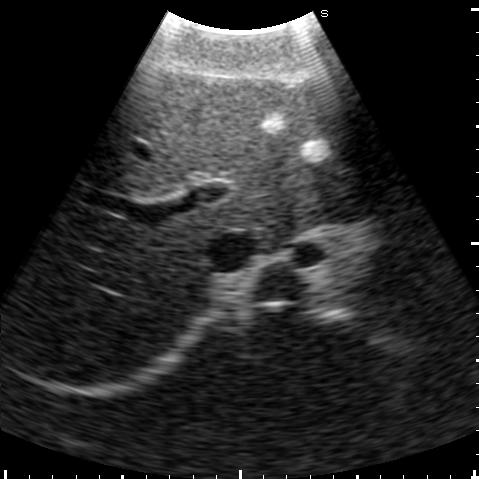IVC: (201, 232, 255, 271)
S1: (206, 194, 291, 246)
S3: (225, 65, 400, 194)
S4: (83, 68, 279, 193)
Tumor: (303, 141, 331, 160), (261, 114, 285, 133)
